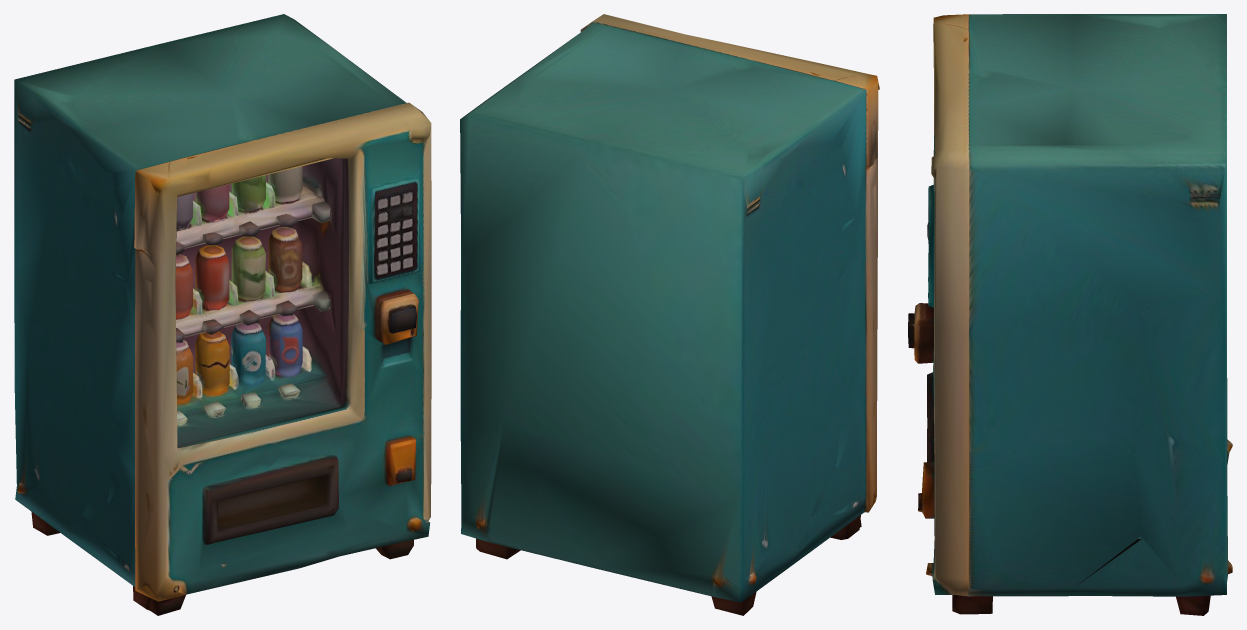
File: mall_vending_machine_3000.glb
3 renders of one model, left to right at view 1: azimuth 30°, elevation 25°; view 2: azimuth 150°, elevation 25°; view 3: azimuth 270°, elevation 25°, orthographic. The views are drawn at different scales.
Parts seen in each view (by area): view 1: tripo_node_9fc93488-2b60-4ae4-9474-887bae307902; view 2: tripo_node_9fc93488-2b60-4ae4-9474-887bae307902; view 3: tripo_node_9fc93488-2b60-4ae4-9474-887bae307902.
Part boxes in pixels (x1,y1,x2,y2): tripo_node_9fc93488-2b60-4ae4-9474-887bae307902: (14, 14, 431, 615); tripo_node_9fc93488-2b60-4ae4-9474-887bae307902: (460, 14, 879, 615); tripo_node_9fc93488-2b60-4ae4-9474-887bae307902: (908, 14, 1232, 615).
Size of the model in its own units: 0.6666 by 0.9793 by 0.619.
1 material, 1 textured.
